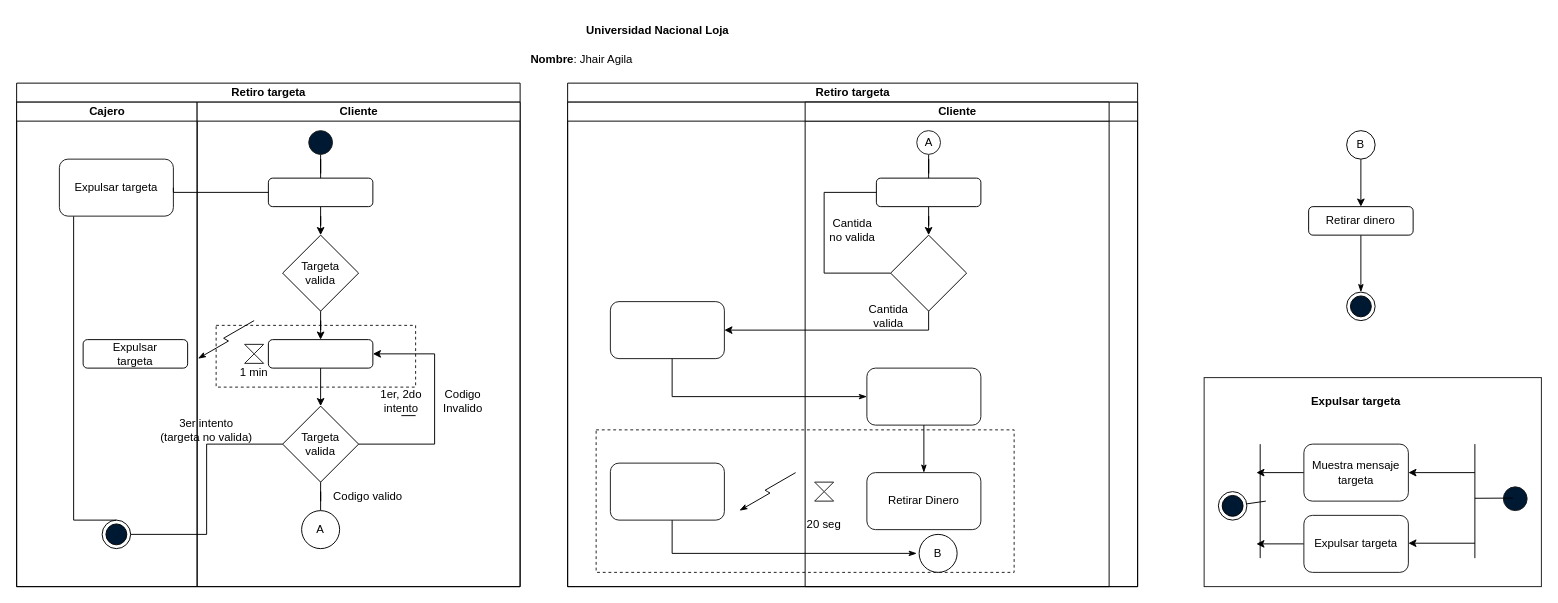
This 1558x603 diagram has some shape labels left out. Each missing label, with the centre of its shape:
"Arrojar dinero" goes at (x=666, y=330).
"Cantidad no-valida" goes at (x=928, y=272).
"Ingresar targeta" goes at (x=320, y=192).
"Ingreso" goes at (x=320, y=353).
"Introduce cantidad" goes at (x=928, y=192).
"Retener dinero" goes at (x=666, y=491).
"Retirar targeta" goes at (x=923, y=396).
